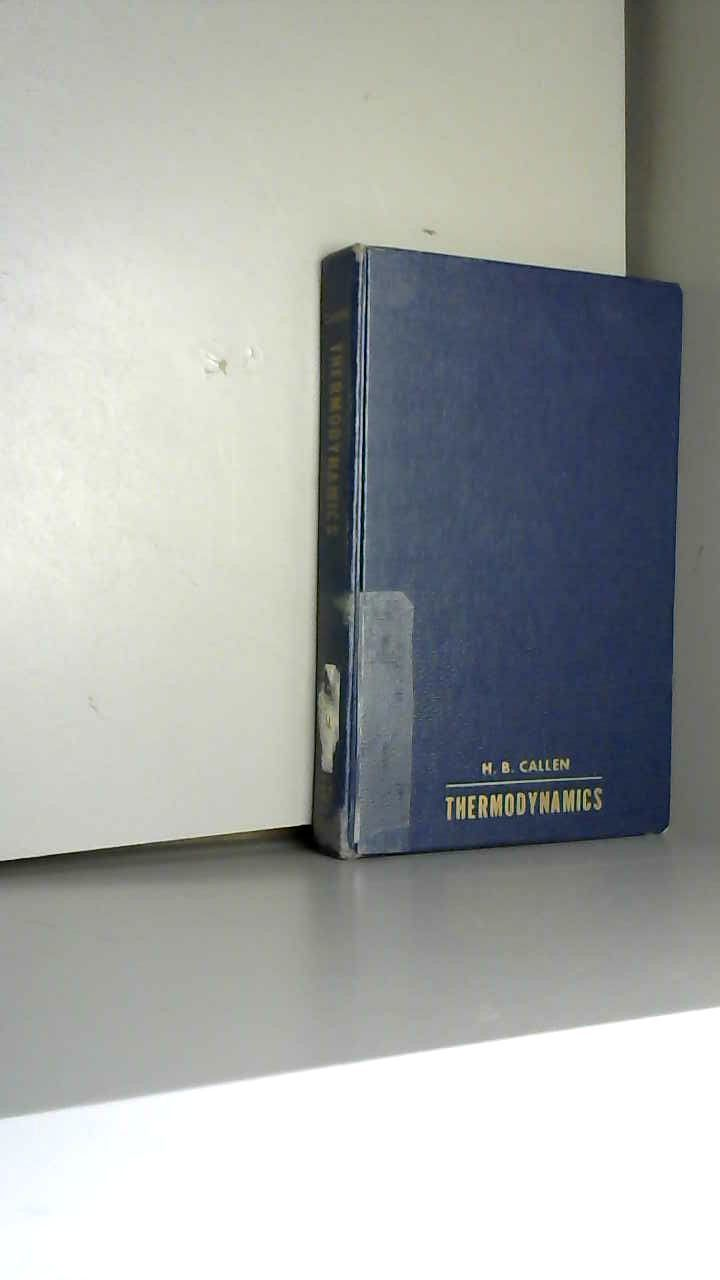book: (290, 220, 720, 884)
